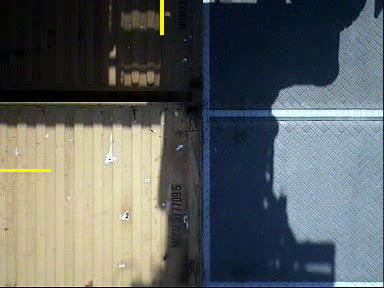groundmarker_2: (176, 159, 220, 239)
